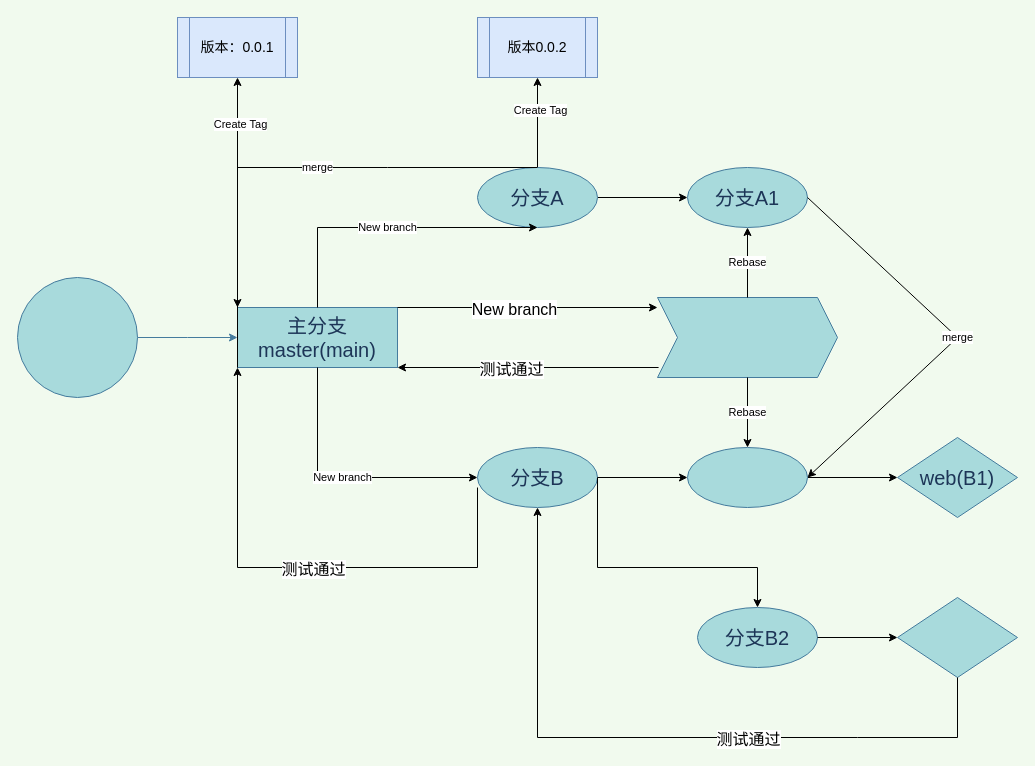
The diagram is 1035 pixels wide and 766 high, and some of its shapes have lost their labels. The centre of each missing label's shape, as x and y in pixels:
"Git使用流程" goes at pixel 77 337.
"web(B2)" goes at pixel 957 637.
"分支B1" goes at pixel 747 477.
"分支common 修改供公用内容" goes at pixel 747 337.
